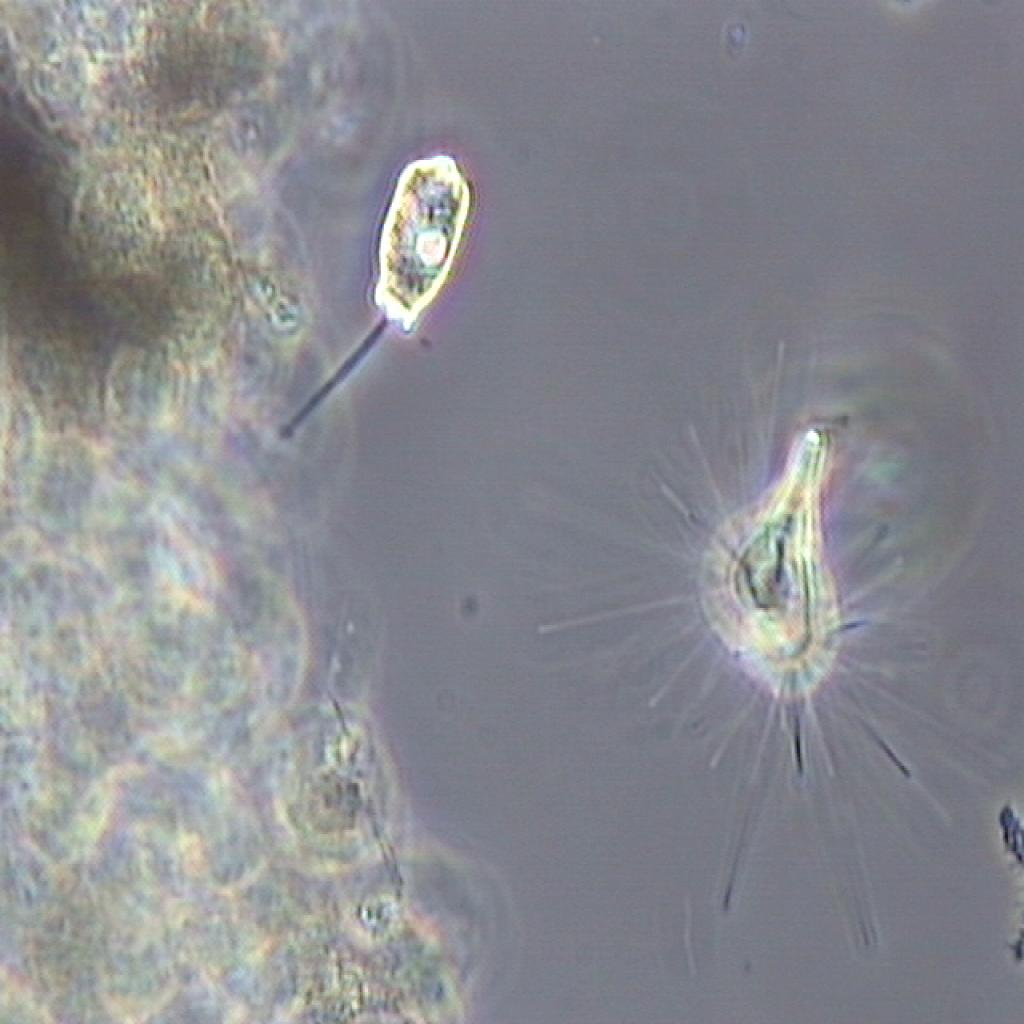Suctorida: (575, 318, 934, 868)
